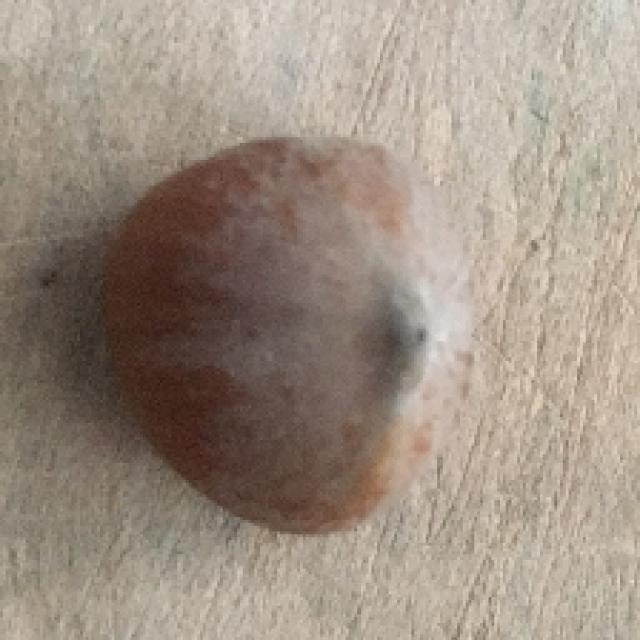qualityHazelnut: (108, 131, 471, 535)
